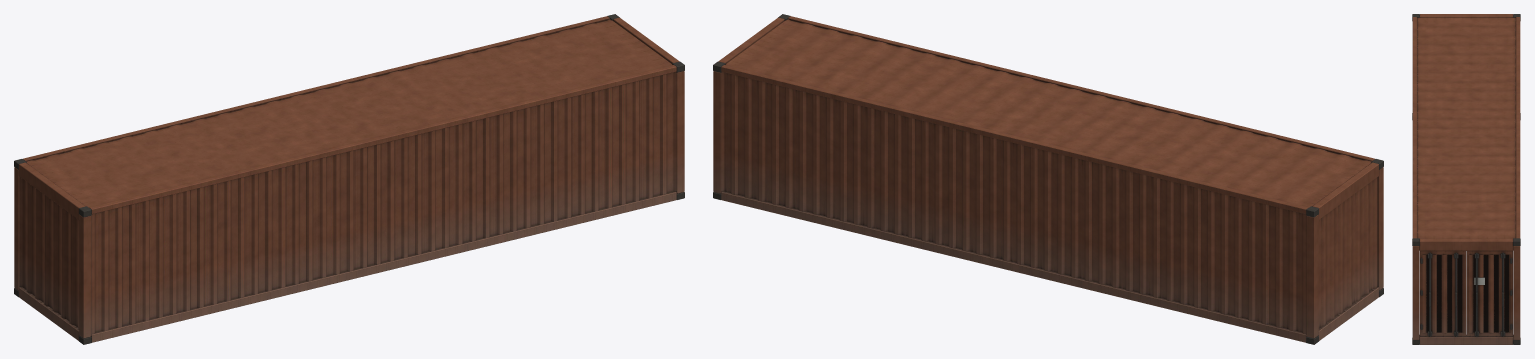
Rendered from container40_brown.glb.
The picture shows the model from 3 angles, left to right: view 1: azimuth 30°, elevation 25°; view 2: azimuth 150°, elevation 25°; view 3: azimuth 270°, elevation 25°; orthographic projection. The views are drawn at different scales.
Visible parts, largest first — view 1: container40_brown; view 2: container40_brown; view 3: container40_brown.
Part boxes in pixels (x1,y1,x2,y2): container40_brown: [14, 14, 684, 344]; container40_brown: [713, 14, 1383, 344]; container40_brown: [1412, 14, 1520, 344].
Size of the model in its own units: 12.31 by 2.59 by 2.45.
Materials: 1 (1 with a texture image).
